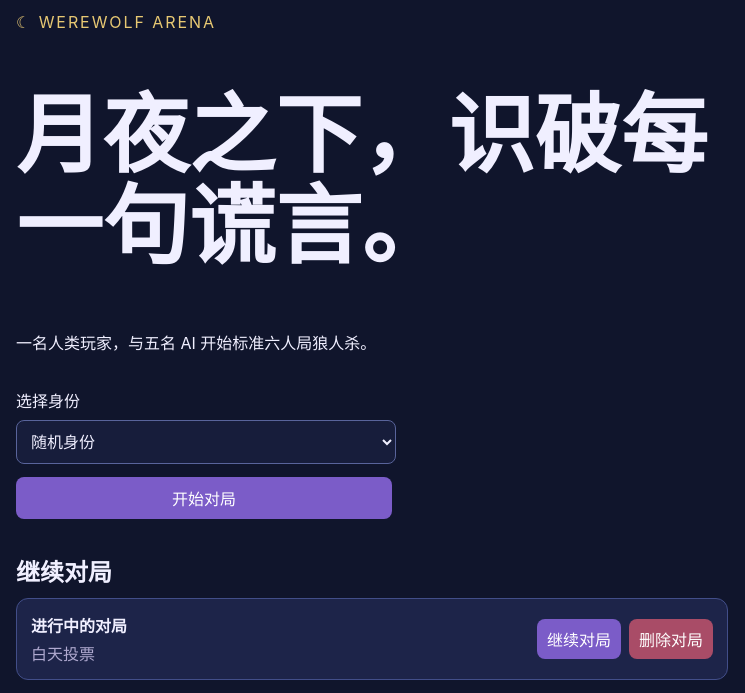
Test: HomePage › shows an authorized room and removes it from local history after confirmed deletion
The image size is (745, 693).
Expected: the heading "继续对局" is shown, [16,558,112,587]
Expected: the text "白天投票" is shown, [31,644,95,664]
Click the button "删除对局" at (671, 639), box [629,619,713,659]
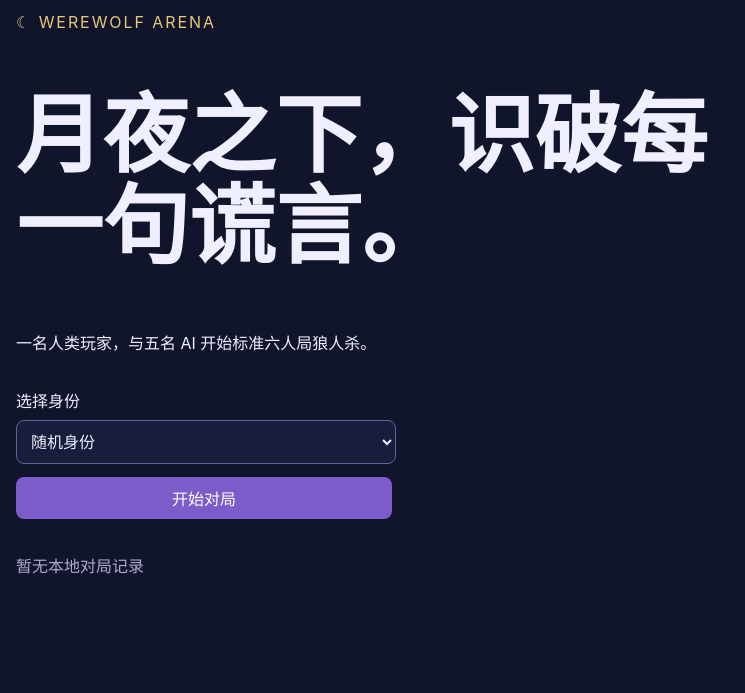
Result: the text "暂无本地对局记录" is shown at [16,556,144,576]
